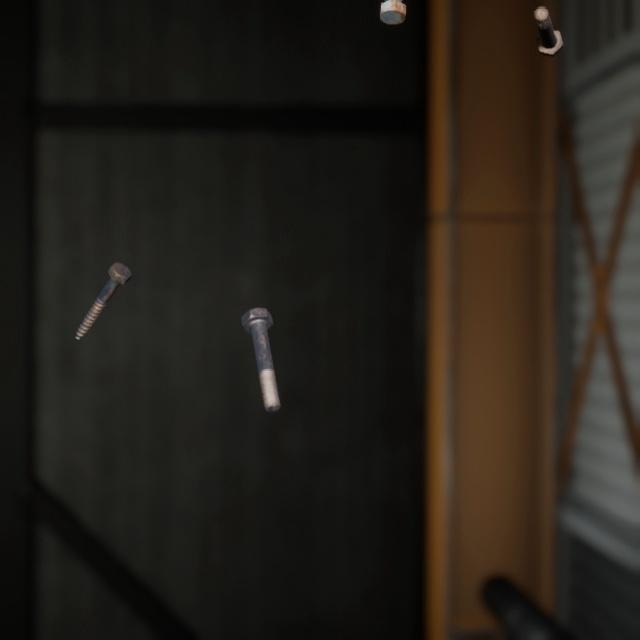bolt: (70, 240, 136, 327), (236, 284, 285, 397), (529, 0, 568, 52), (374, 0, 411, 28)
